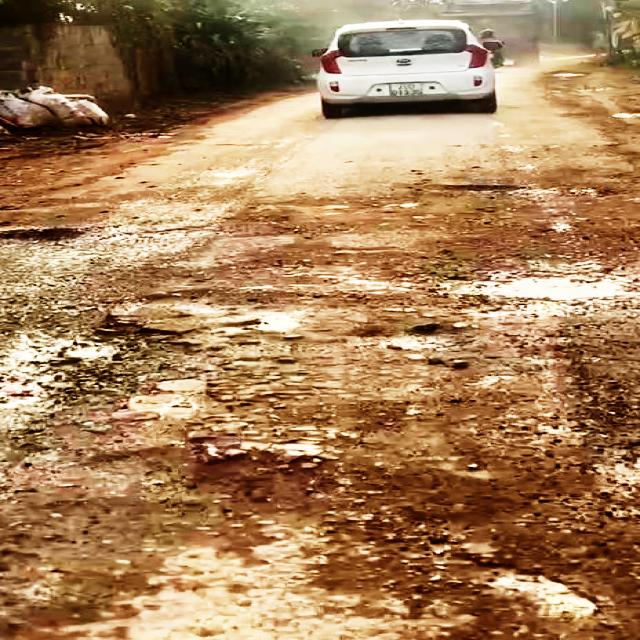pothole: (0, 302, 234, 456), (398, 265, 640, 313)
